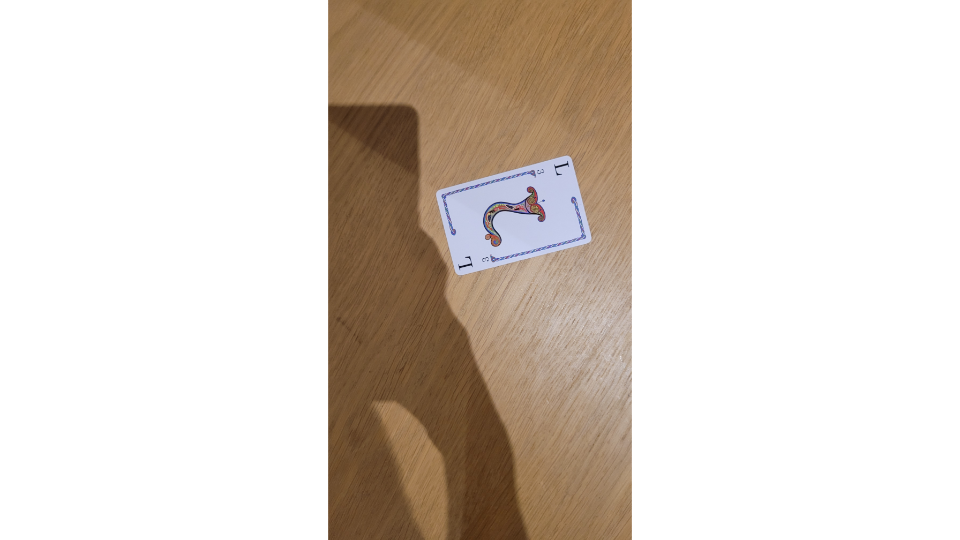L: (432, 153, 595, 277)
